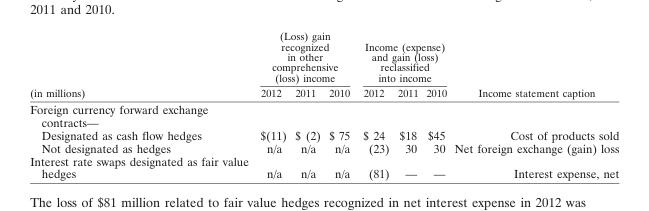table: (29, 29, 618, 180)
table column: (29, 29, 253, 180), (449, 29, 618, 180), (355, 29, 392, 180), (253, 29, 289, 180), (289, 29, 323, 180), (323, 29, 355, 180), (392, 29, 421, 180), (421, 29, 449, 180)
table column header: (29, 29, 618, 100)
table projected row header: (29, 100, 618, 128)
table row: (29, 29, 618, 84), (29, 100, 618, 128), (29, 153, 618, 180), (29, 84, 618, 100), (29, 128, 618, 141), (29, 141, 618, 153)
table spanning cell: (29, 29, 253, 100), (449, 29, 618, 100), (253, 29, 355, 84), (355, 29, 449, 84)
